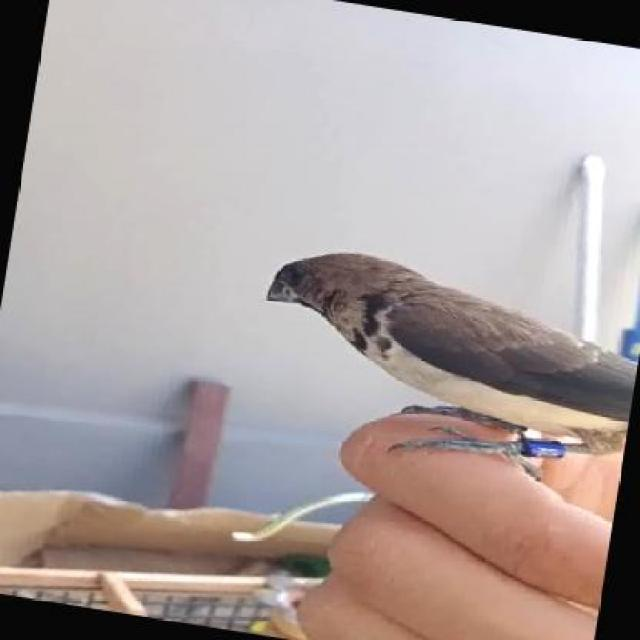Bird: (261, 246, 629, 458)
